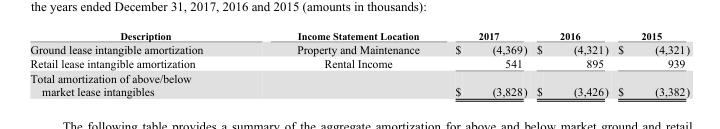table: (29, 29, 689, 97)
table column: (29, 29, 249, 97), (249, 29, 436, 97), (436, 29, 531, 97), (531, 29, 612, 97), (612, 29, 689, 97)
table column header: (29, 29, 689, 41)
table row: (29, 70, 689, 97), (29, 41, 689, 56), (29, 56, 689, 70), (29, 29, 689, 41)
